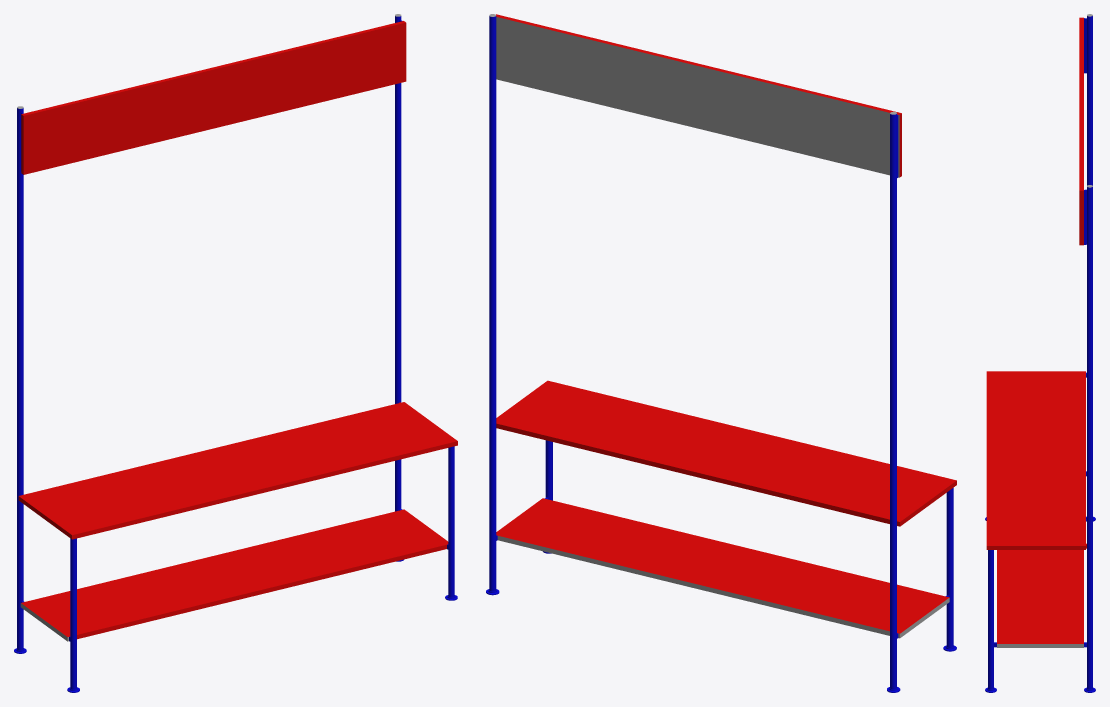
The model's file is CoatRack.fbx.
3 views of the same model, side by side, from view 1: azimuth 30°, elevation 25°; view 2: azimuth 150°, elevation 25°; view 3: azimuth 270°, elevation 25° (orthographic). The views are drawn at different scales.
Visible parts, largest first — view 1: pCube7; view 2: pCube7; view 3: pCube7.
Part boxes in pixels (<box>): pCube7: <box>14,14,457,692</box>; pCube7: <box>486,14,956,692</box>; pCube7: <box>985,14,1095,692</box>.
Bounding box in the file's own units: 135 × 180 × 35.82.
